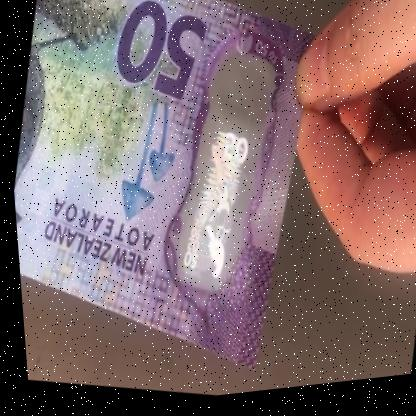50B: (163, 53, 281, 296)
